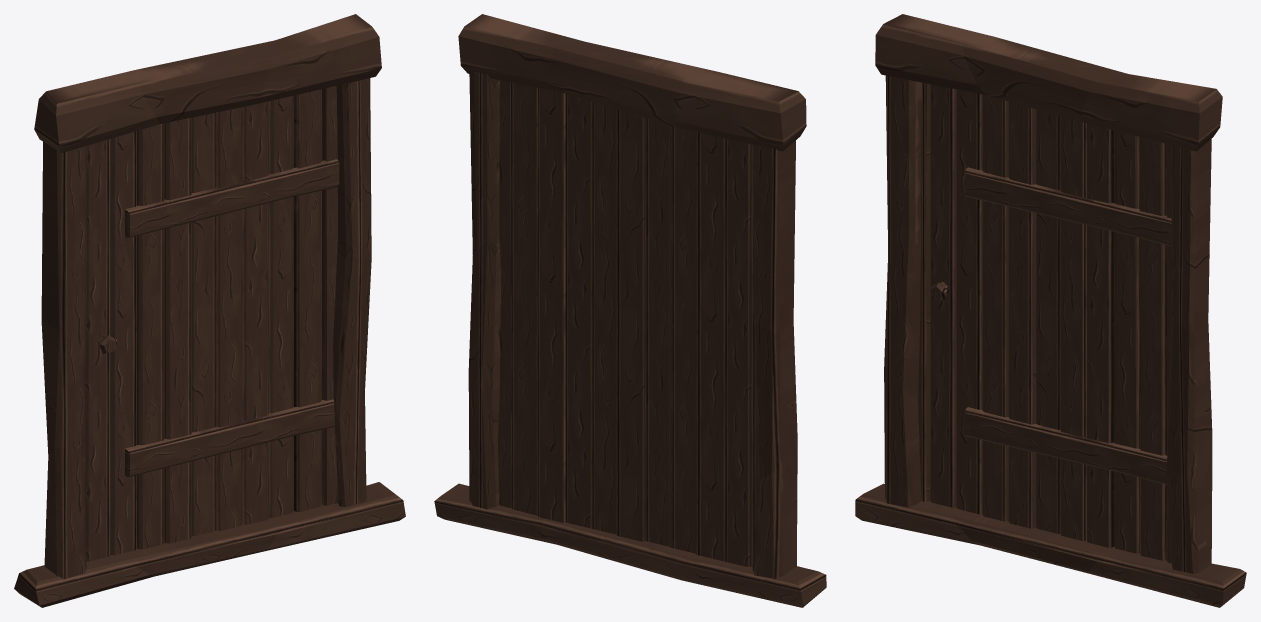
Rendered from HouseDoor.fbx.
3 views of the same model, side by side, from view 1: azimuth 30°, elevation 25°; view 2: azimuth 150°, elevation 25°; view 3: azimuth 330°, elevation 25° (orthographic).
Visible parts, largest first — view 1: House.020; view 2: House.020; view 3: House.020.
Boxes of the visible parts, x1,y1,x2,y2 form: House.020: [14, 14, 405, 607]; House.020: [434, 14, 826, 607]; House.020: [855, 14, 1246, 607].
Size of the model in its own units: 2.33 by 3.02 by 0.2875.
